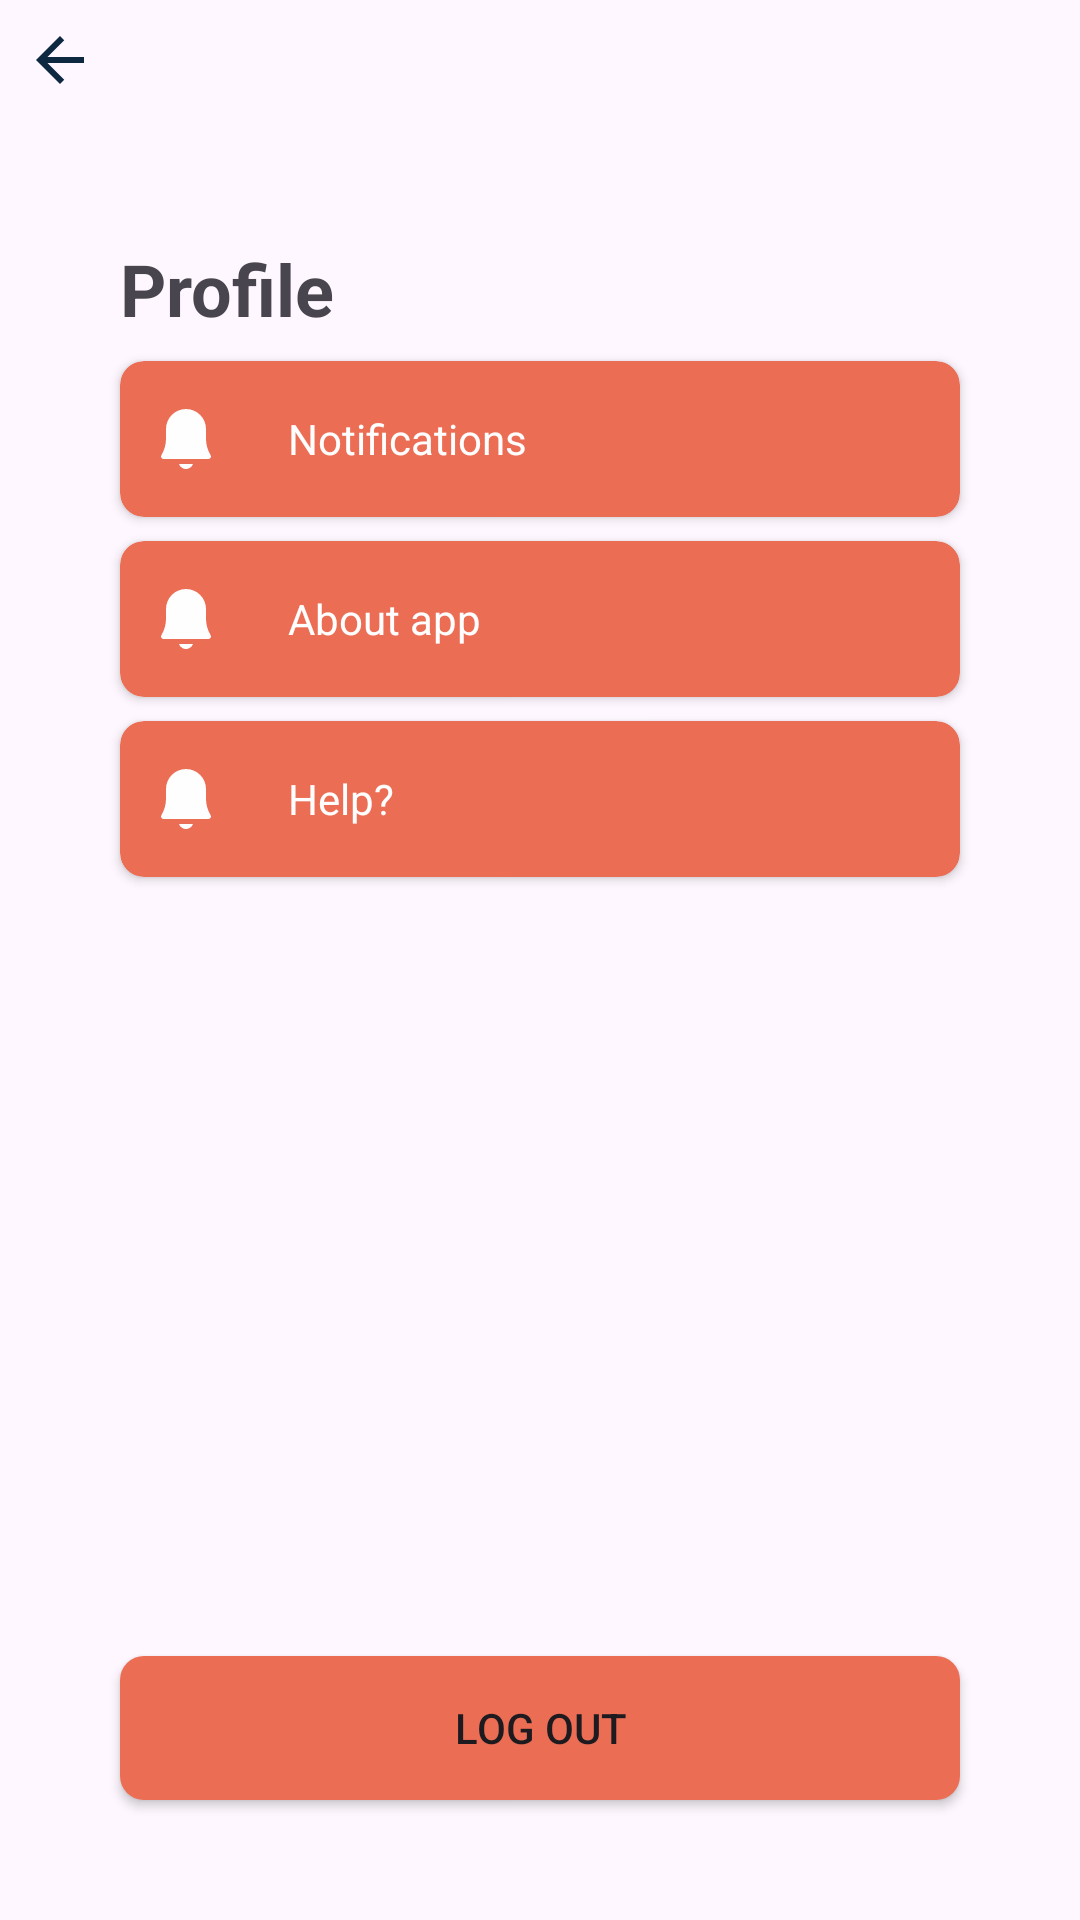

Where icons sit on this 1080w x 1920h app screen, as (x1, y1, x2, y2):
alarm: (161, 409, 211, 469), (161, 589, 211, 649), (161, 769, 211, 829)
